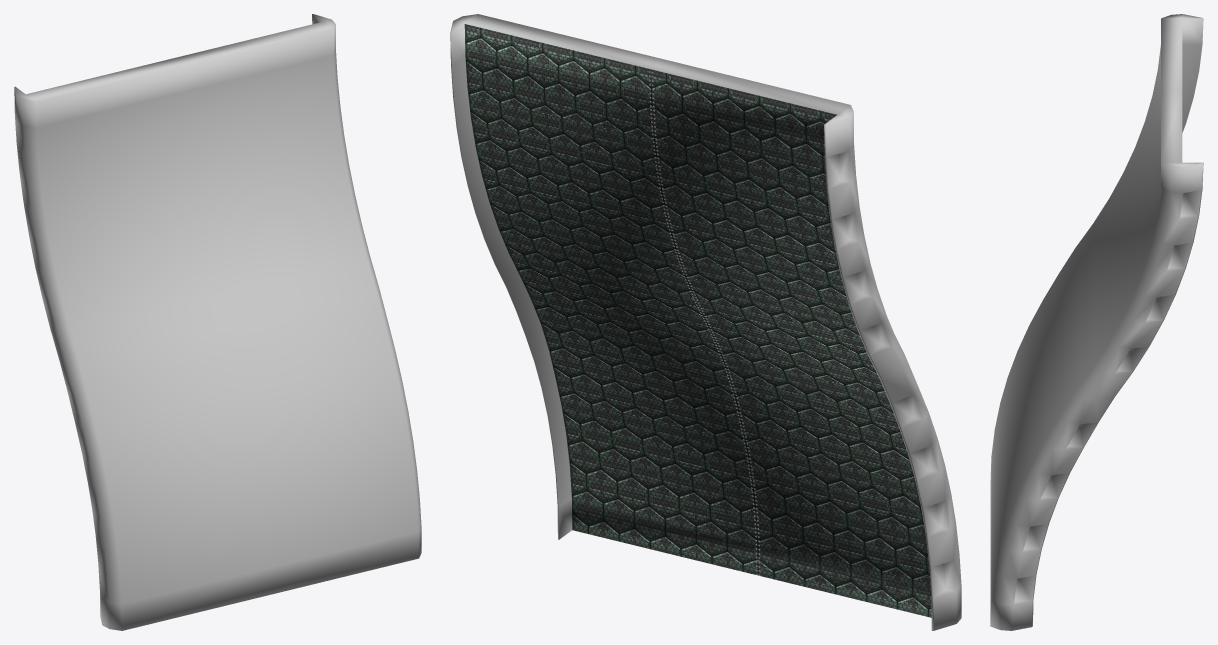
Rendered from highway_ramp.fbx.
The picture shows the model from 3 angles, left to right: view 1: azimuth 30°, elevation 25°; view 2: azimuth 150°, elevation 25°; view 3: azimuth 270°, elevation 25°; orthographic projection. The views are drawn at different scales.
Parts seen in each view (by area): view 1: highway_ramp; view 2: highway_ramp, light_012; view 3: highway_ramp.
Boxes of the visible parts, bbox=[...] form: highway_ramp: bbox=[14, 14, 421, 630]; highway_ramp: bbox=[450, 14, 961, 630]; light_012: bbox=[649, 71, 760, 575]; highway_ramp: bbox=[990, 14, 1203, 630].
Size of the model in its own units: 8.5 by 12 by 5.
